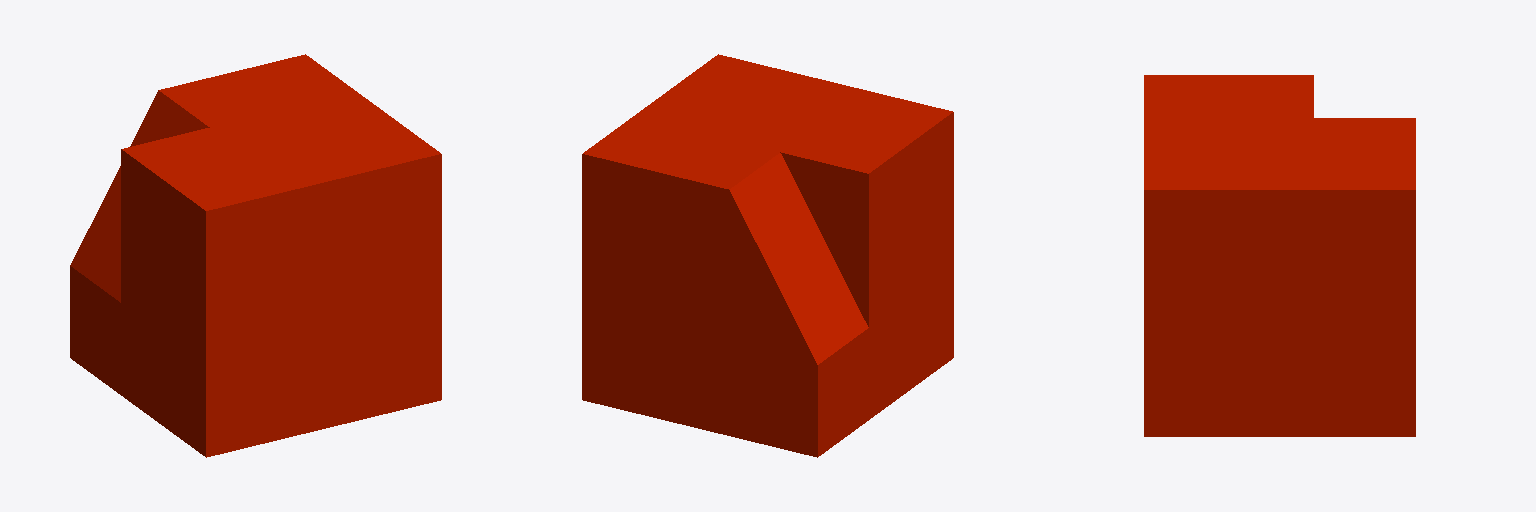
3 renders of one model, left to right at view 1: azimuth 30°, elevation 25°; view 2: azimuth 150°, elevation 25°; view 3: azimuth 270°, elevation 25°, orthographic.
Visible parts, largest first — view 1: 0_1; view 2: 0_1; view 3: 0_1.
Part boxes in pixels (x1,y1,x2,y2): 0_1: (70,54,441,457); 0_1: (582,54,953,457); 0_1: (1144,75,1415,436).
Bounding box in the file's own units: 2 × 2 × 2.